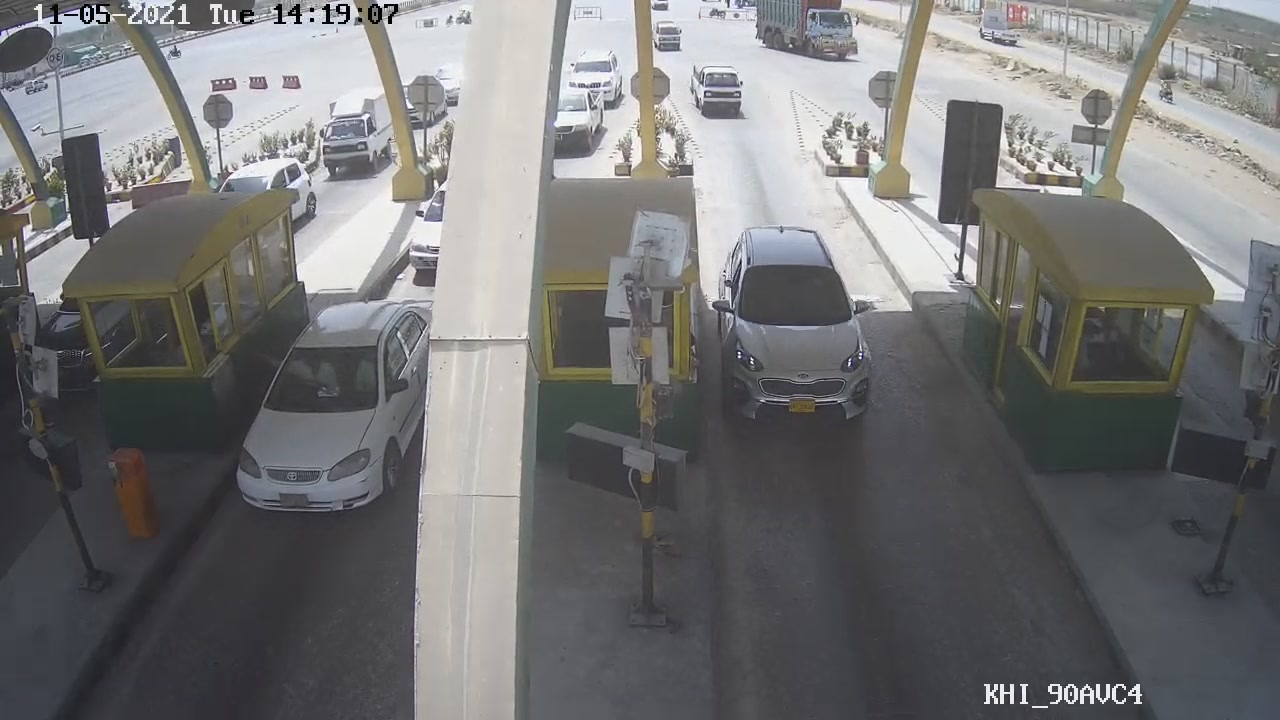F1: (709, 225, 880, 430)
